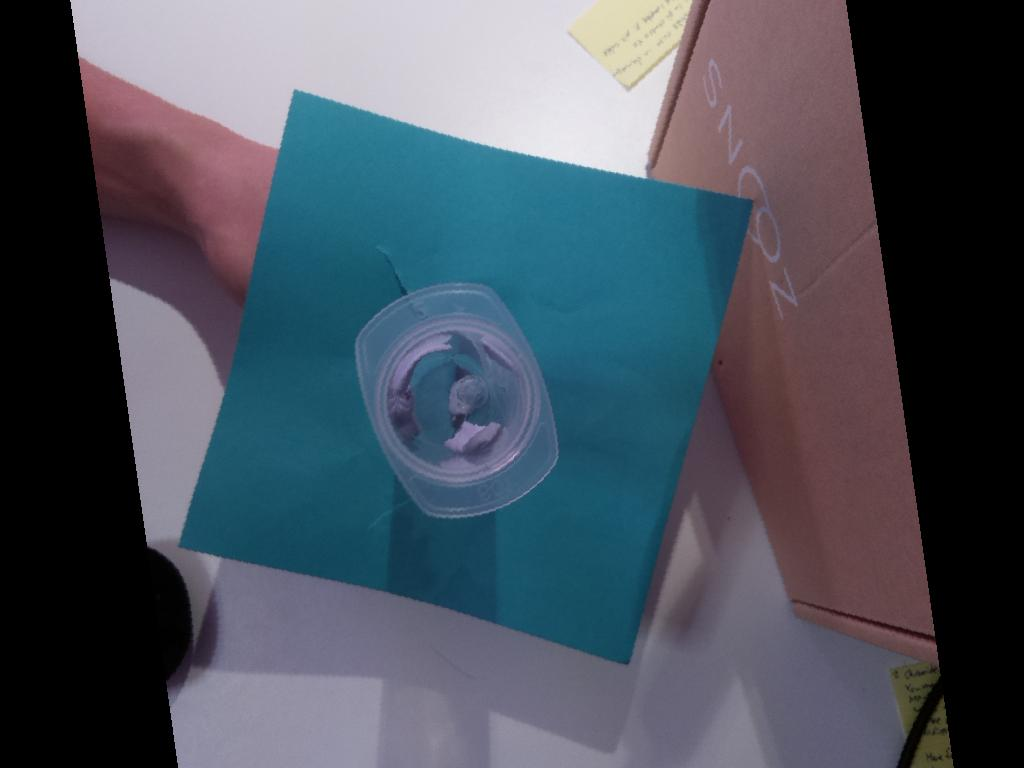dirty: (355, 282, 559, 516)
